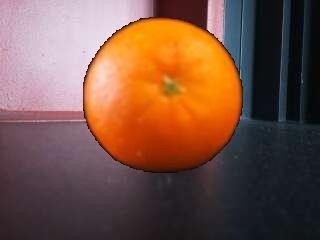Orange: (84, 18, 245, 174)
